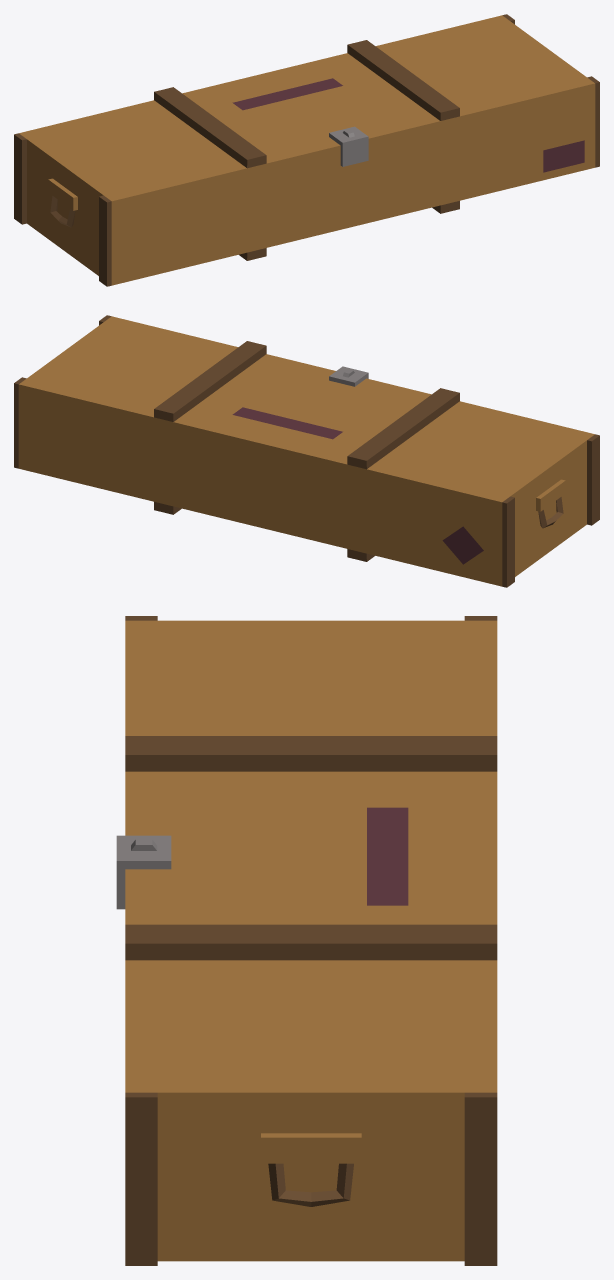
The model's file is crate-army-b.fbx.
3 renders of one model, top to bottom at view 1: azimuth 30°, elevation 25°; view 2: azimuth 150°, elevation 25°; view 3: azimuth 270°, elevation 25°, orthographic. The views are drawn at different scales.
Visible parts, largest first — view 1: crate-army-b; view 2: crate-army-b; view 3: crate-army-b.
Part boxes in pixels (<box>): crate-army-b: <box>14,14,599,286</box>; crate-army-b: <box>14,315,599,587</box>; crate-army-b: <box>116,616,497,1265</box>.
Size of the model in its own units: 1.23 by 0.24 by 0.4091.
